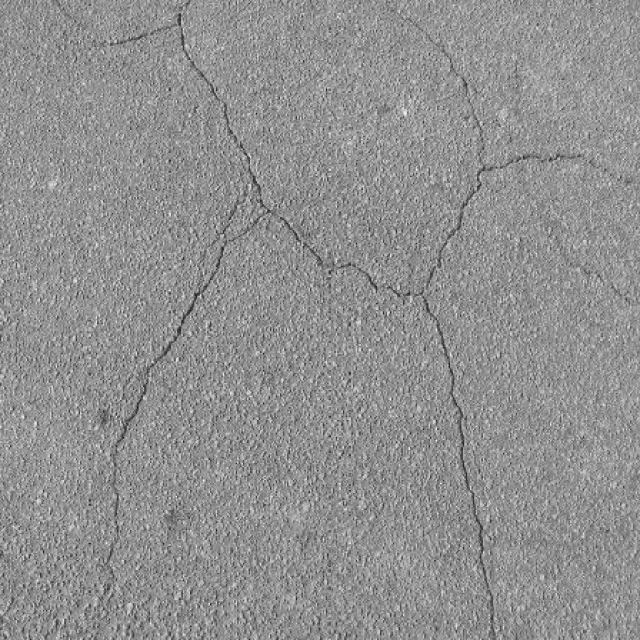Crack: (58, 0, 498, 639), (500, 154, 639, 189), (564, 256, 639, 308)
